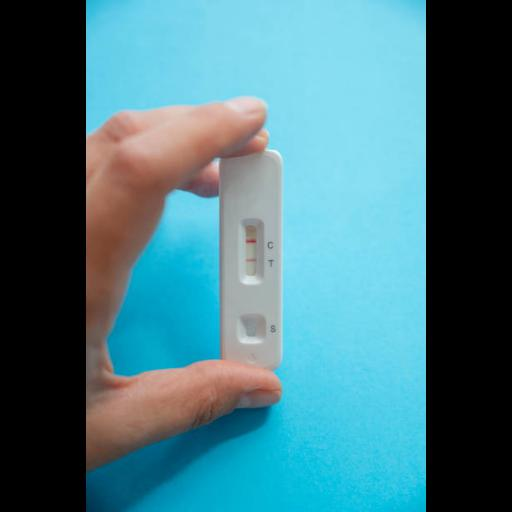Pos: (219, 152, 281, 370)
